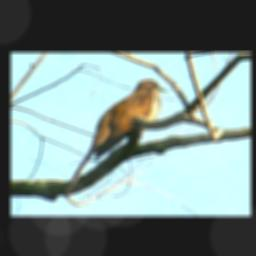Cuckoo: (92, 78, 168, 161)
